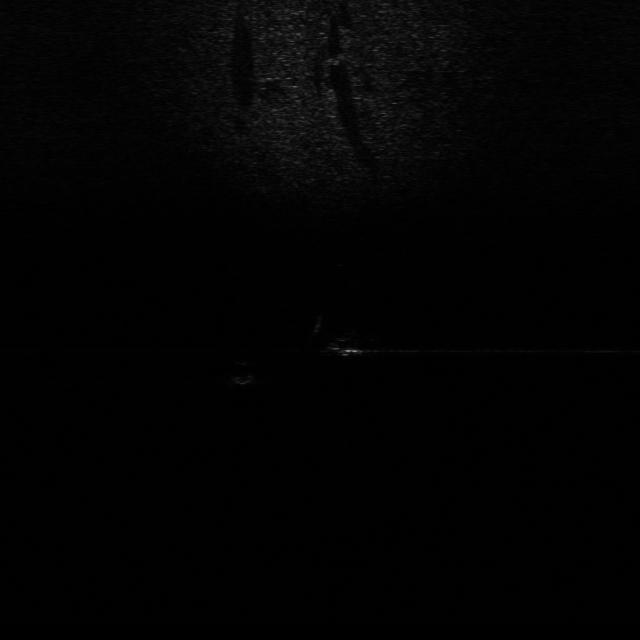ball: (229, 357, 262, 386)
human body: (308, 312, 386, 357)
